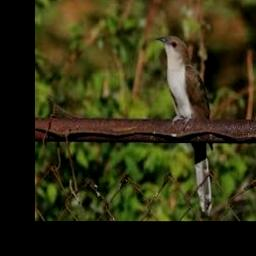Cuckoo: (156, 36, 212, 214)
